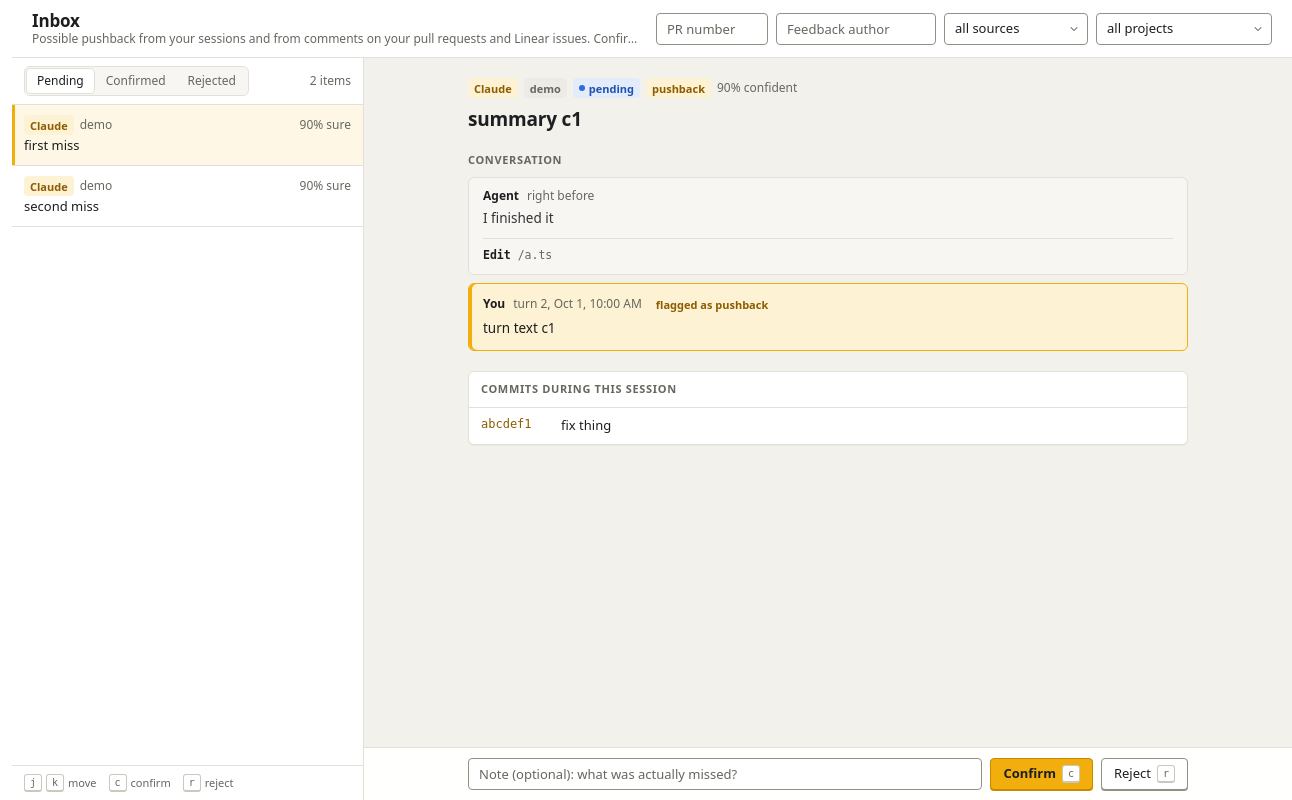
Test case: an Inbox decision offers audited Undo and reports a refusal after processing starts
Check: the text "turn text c1" is shown, box [483,319,556,337]
Press c
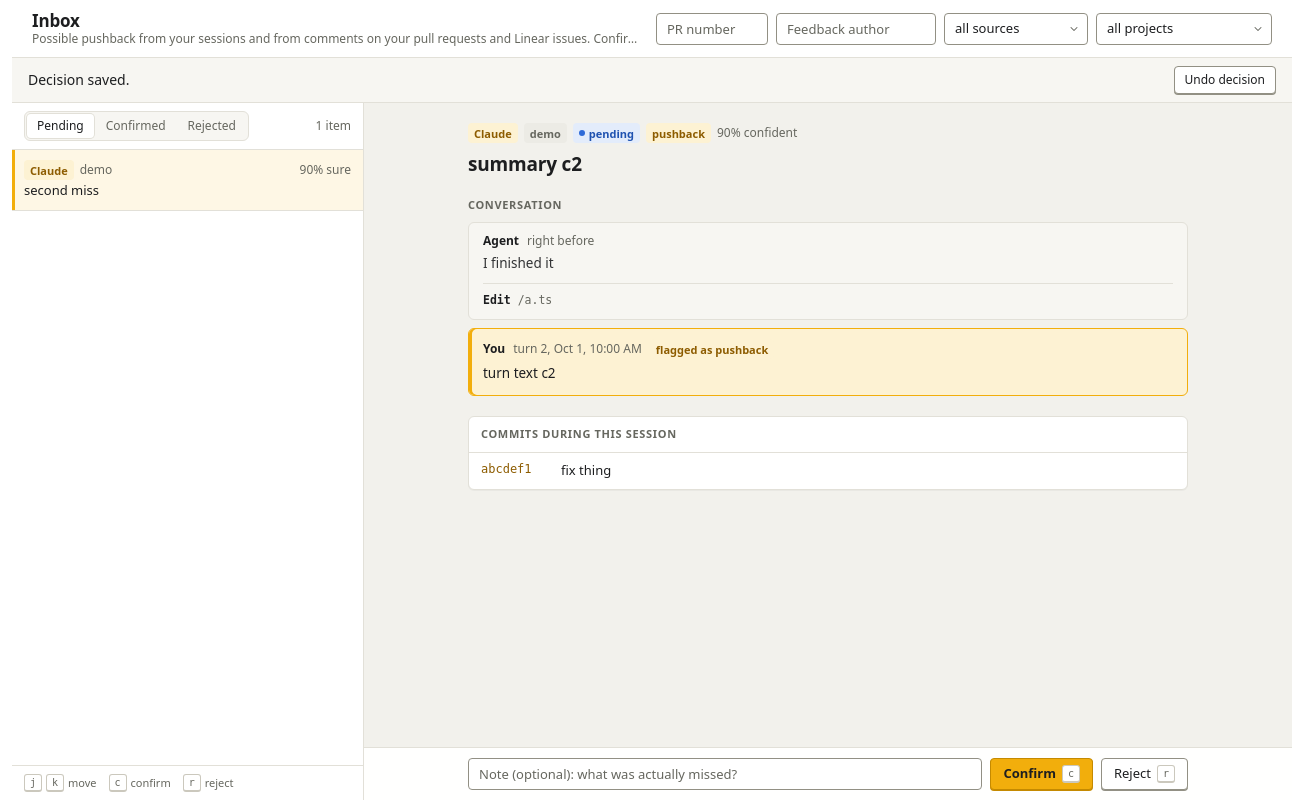
Click the button "Undo decision": [1225, 80] box [1174,66,1276,94]
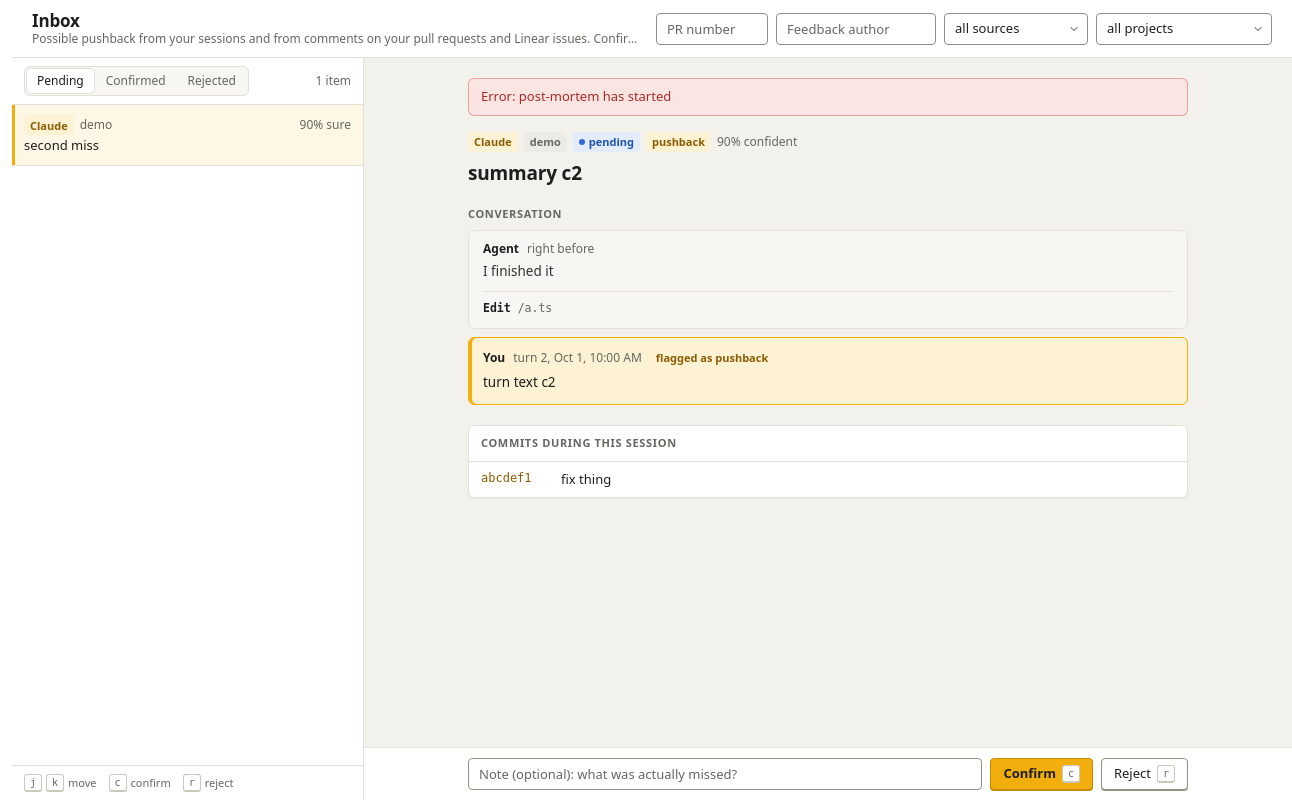
Check: the text "Error: post-mortem has started" is shown, box [468,78,1188,116]
